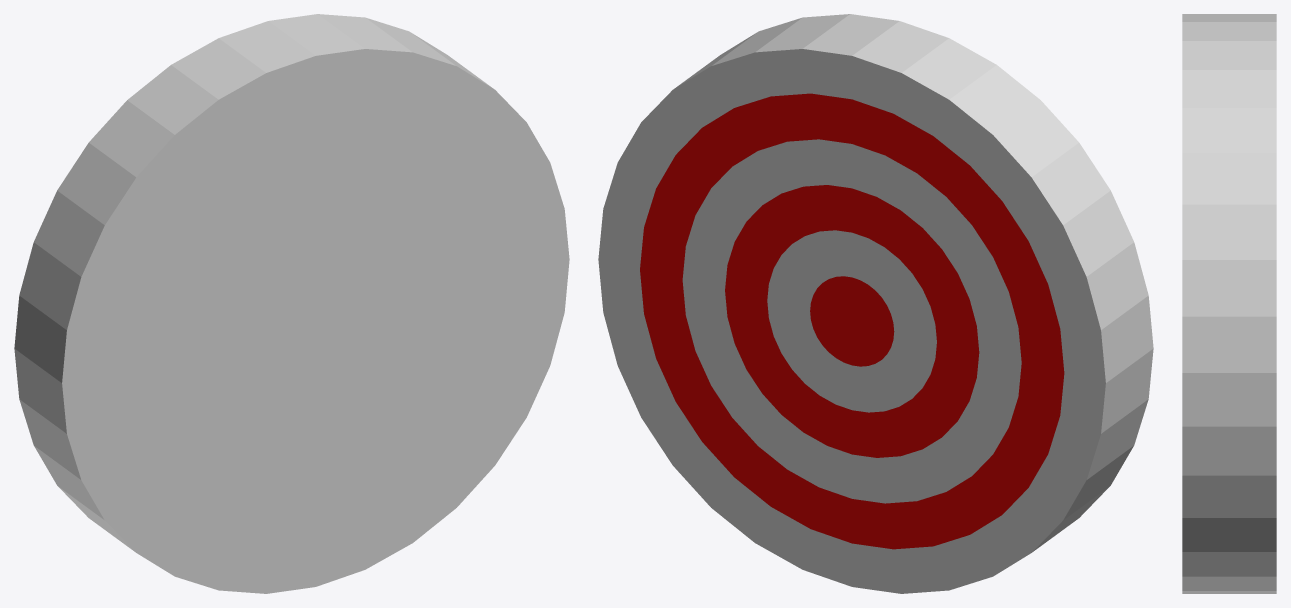
Rendered from target.fbx.
3 views of the same model, side by side, from view 1: azimuth 30°, elevation 25°; view 2: azimuth 150°, elevation 25°; view 3: azimuth 270°, elevation 25° (orthographic).
Parts seen in each view (by area): view 1: Circle; view 2: Circle; view 3: Circle.
Boxes of the visible parts, left/top/right/bottom form: Circle: left=14, top=14, right=569, bottom=593; Circle: left=598, top=14, right=1153, bottom=593; Circle: left=1182, top=14, right=1276, bottom=593.
Bounding box in the file's own units: 120 × 120 × 19.48.
